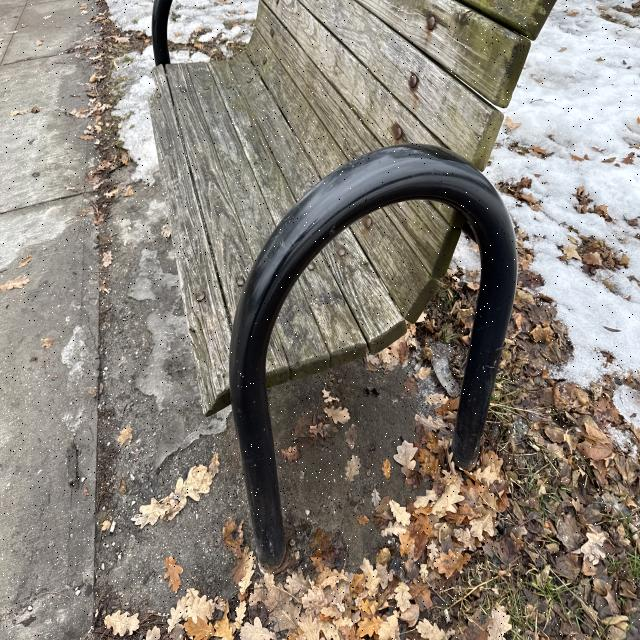Bench: (167, 0, 555, 502)
